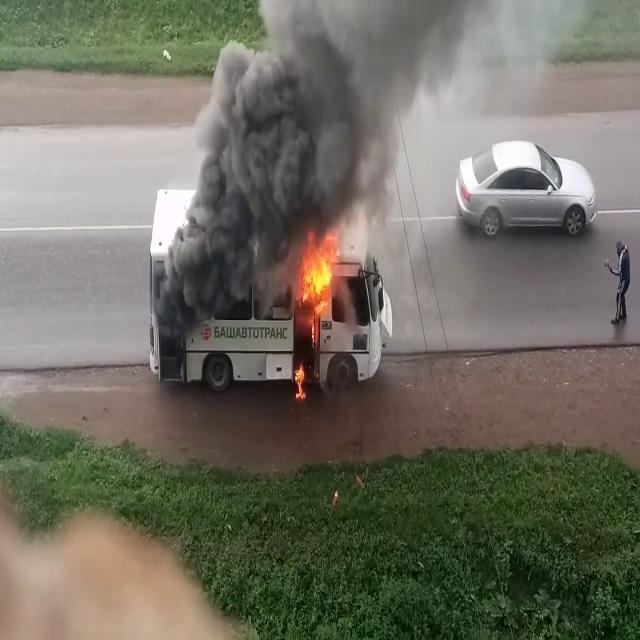Fire: (296, 235, 341, 328), (294, 358, 306, 401)
Smoke: (158, 2, 390, 314)
